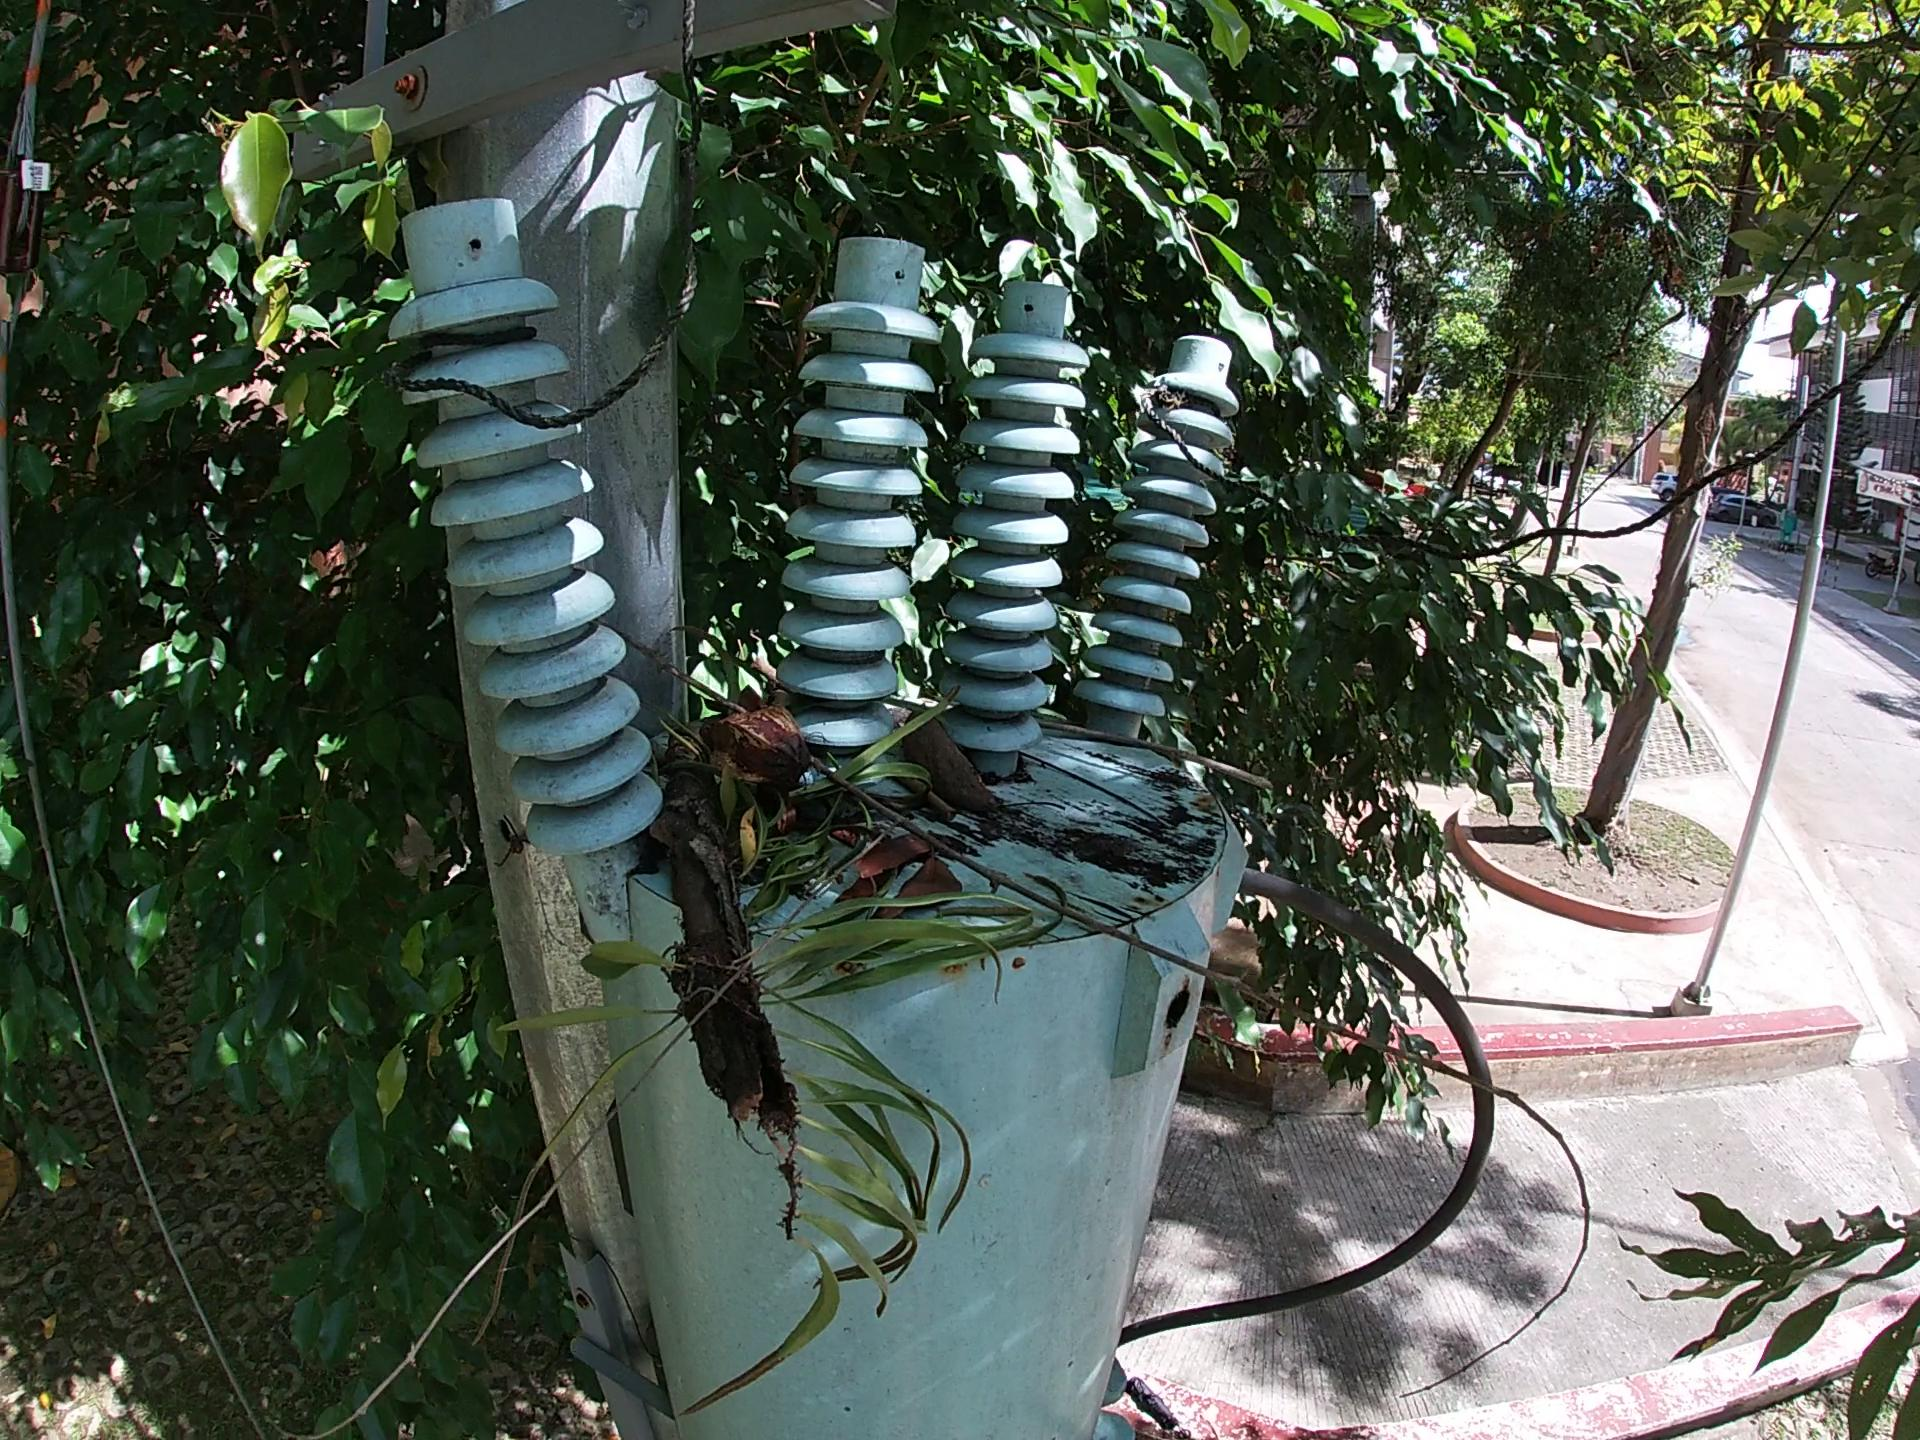branch with leaves: (632, 659, 980, 1304)
mahogany fruit: (639, 602, 859, 844), (865, 672, 1043, 843)
tree branch: (689, 655, 1763, 1324), (639, 629, 1541, 1086), (828, 711, 1048, 906), (1011, 709, 1293, 806)
